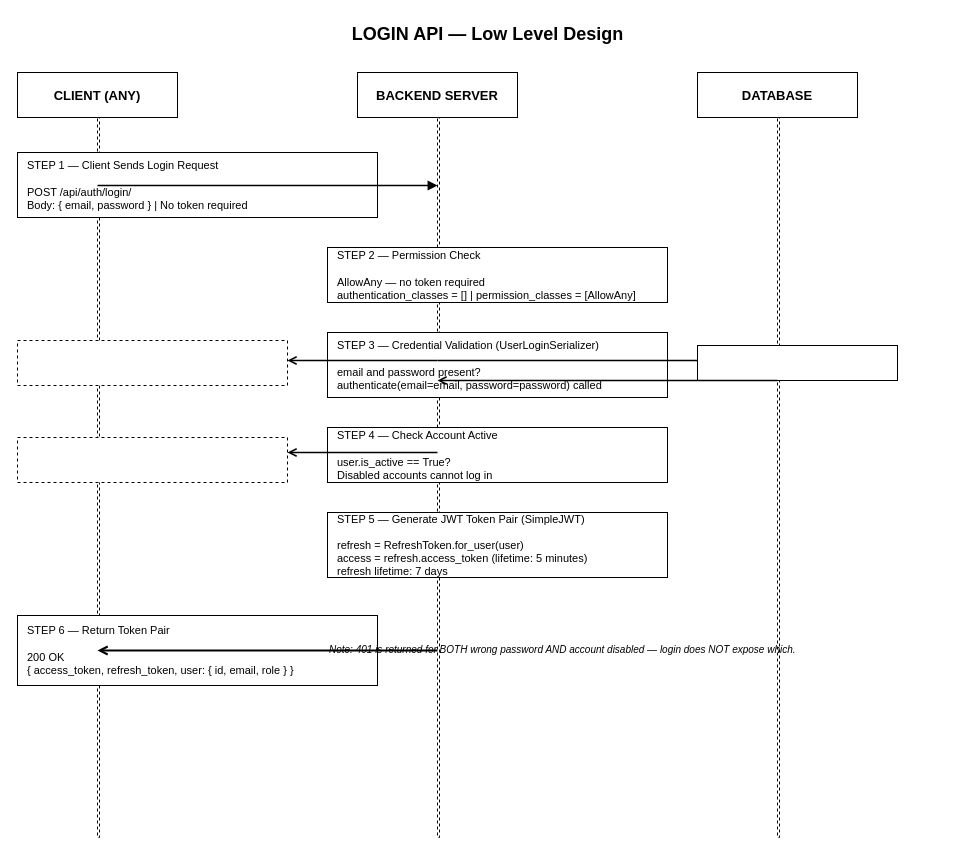
This 955x855 diagram has some shape labels left out. Here are the shapes that lost their labels. From the top down, the centre of each, then its label:
At point (152, 363): "401 Unauthorized { non_field_errors: Invalid email or password }".
At point (797, 362): "Returns: user object OR None".
At point (152, 459): "401 Unauthorized { non_field_errors: Account is disabled }".
